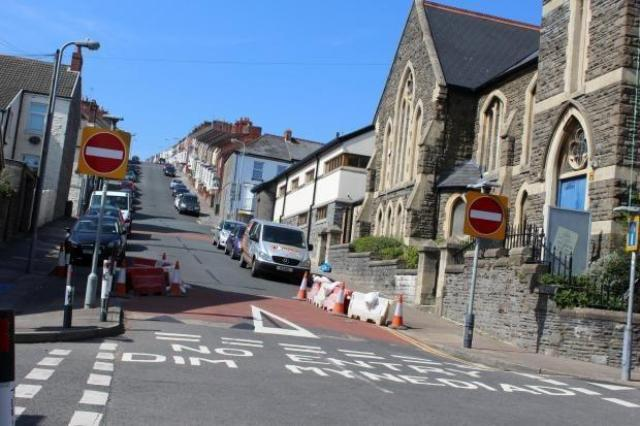B2: (78, 128, 128, 180), (463, 192, 507, 240)
